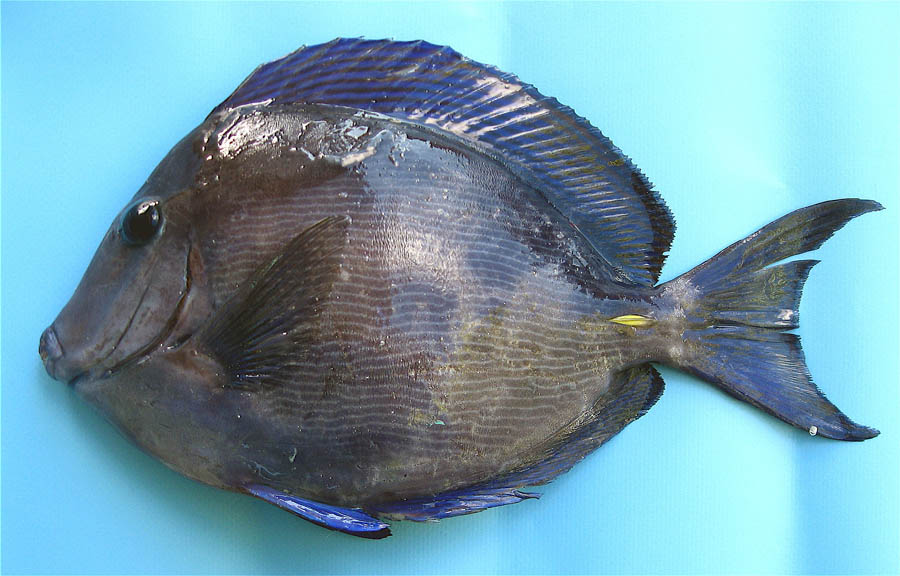Acanthurus_coeruleus: (35, 34, 890, 547)
